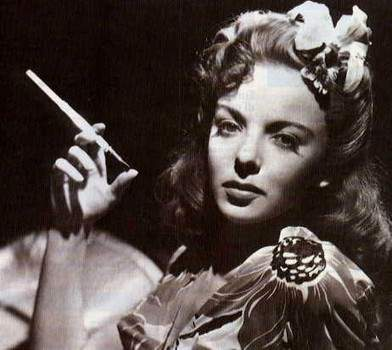cigarette: (19, 65, 74, 112)
